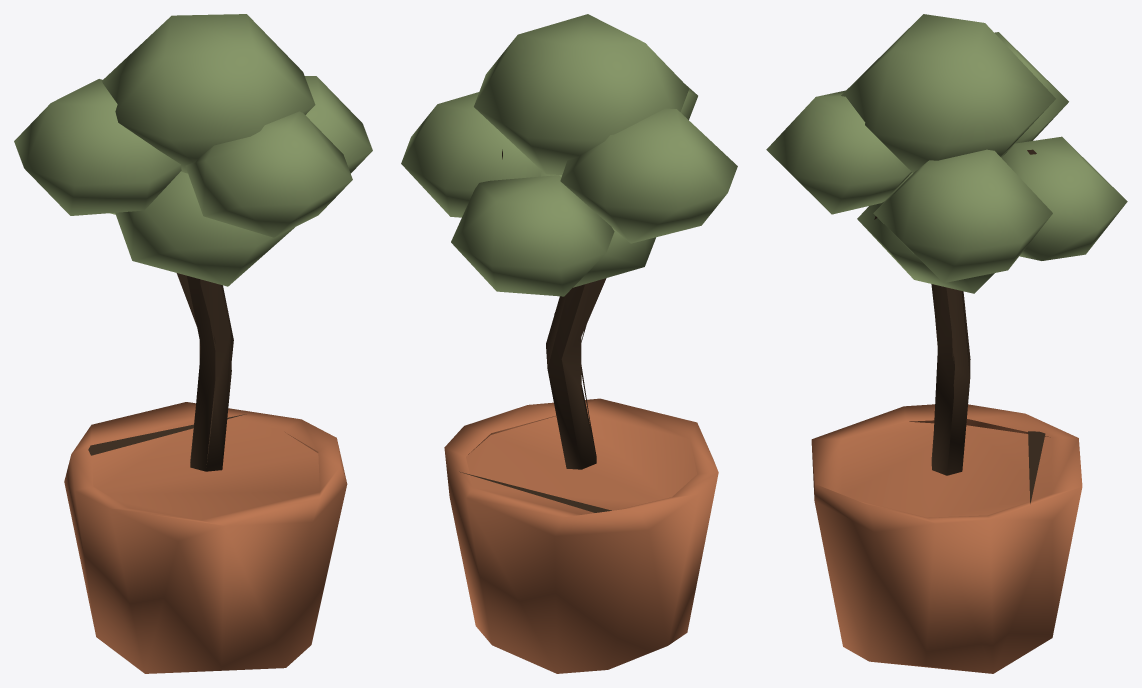
The model's file is lod_potted_olive.glb.
The picture shows the model from 3 angles, left to right: view 1: azimuth 30°, elevation 25°; view 2: azimuth 150°, elevation 25°; view 3: azimuth 270°, elevation 25°; orthographic projection.
Visible parts, largest first — view 1: potted_olive; view 2: potted_olive; view 3: potted_olive.
Boxes of the visible parts, <box> form: potted_olive: <box>14,14,372,673</box>; potted_olive: <box>401,14,737,673</box>; potted_olive: <box>766,14,1127,673</box>.
Size of the model in its own units: 1.17 by 2.06 by 1.12.
